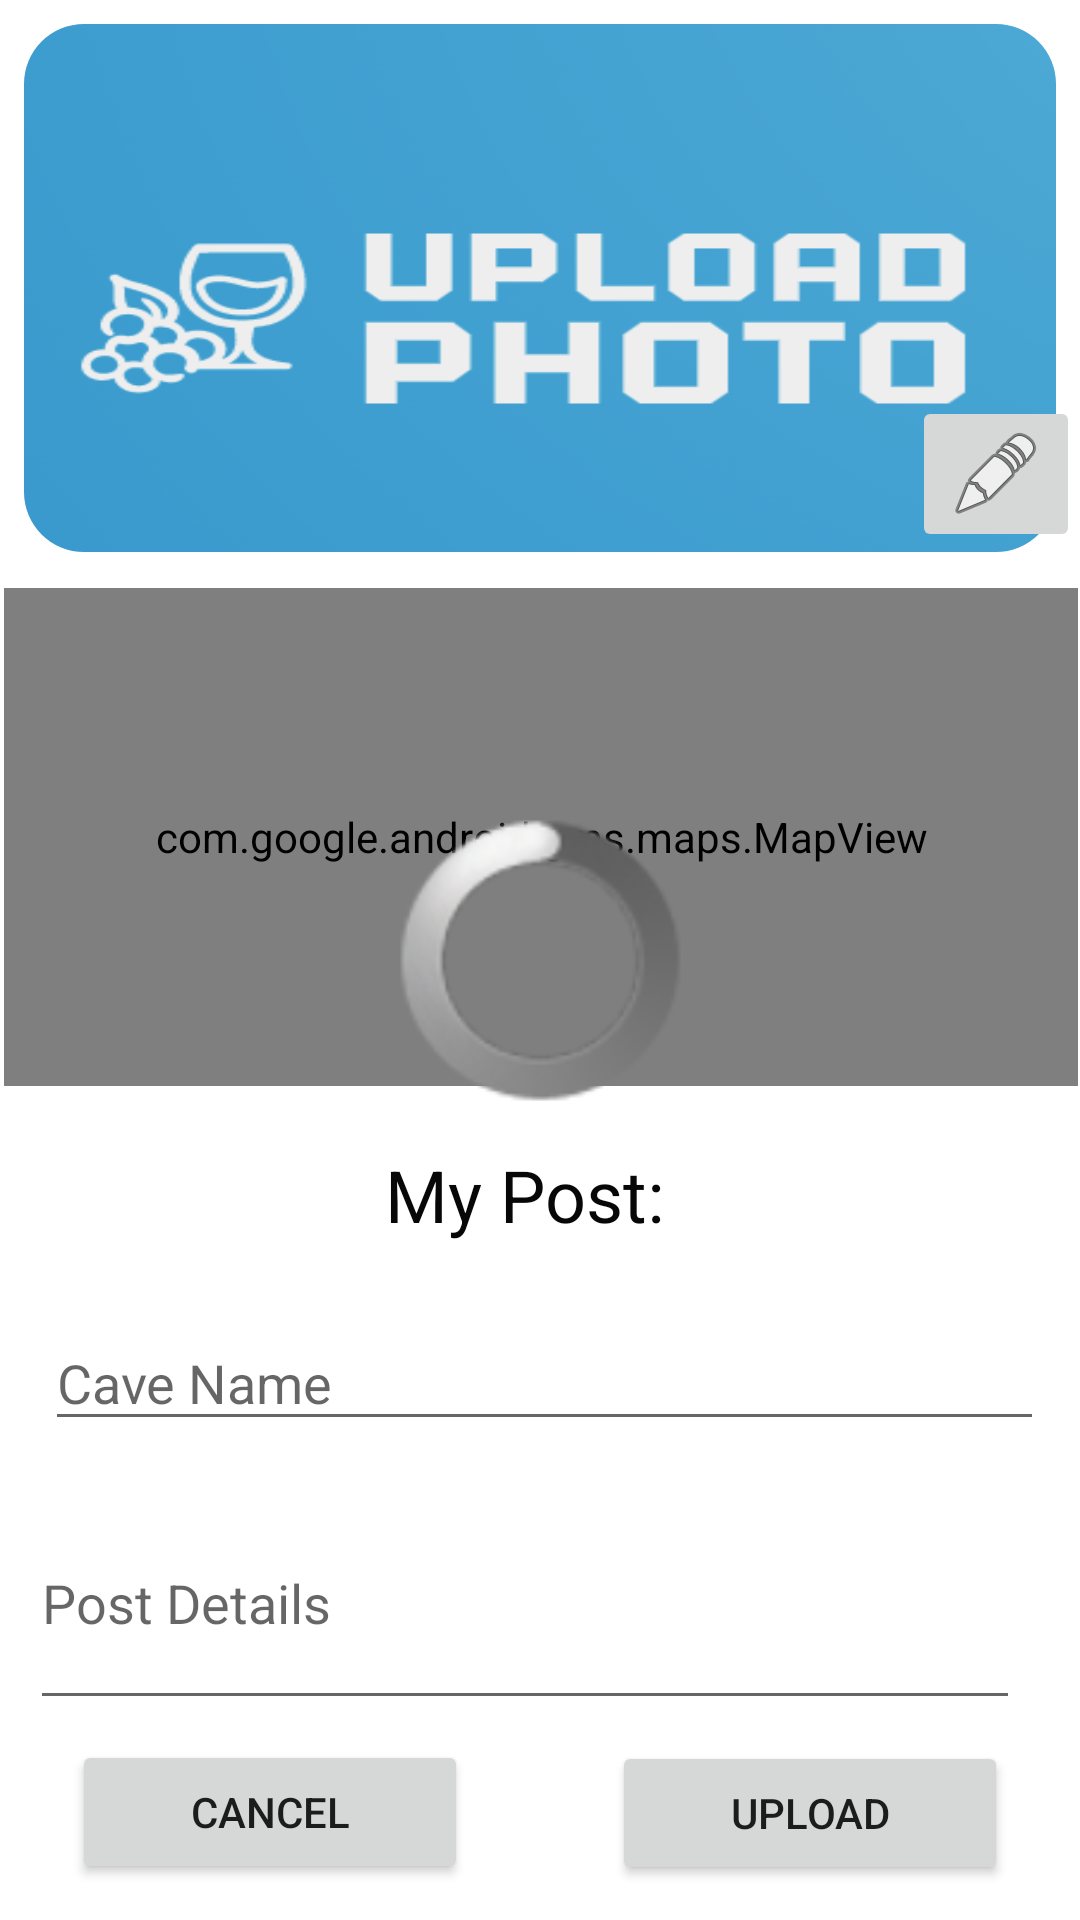

Named icons in this screenshot (1080px x 1920px) and their centers, (x,y):
edit: (996,474)
